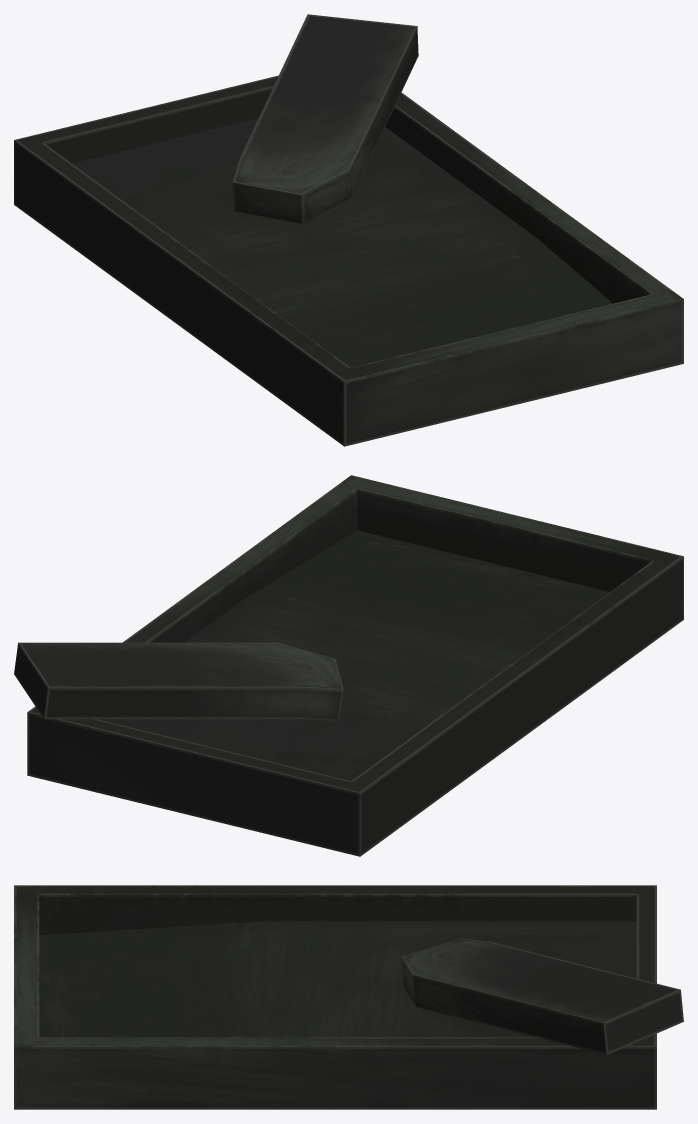
File: library_loom_inkstone.fbx
3 renders of one model, top to bottom at view 1: azimuth 30°, elevation 25°; view 2: azimuth 150°, elevation 25°; view 3: azimuth 270°, elevation 25°, orthographic. The views are drawn at different scales.
Visible parts, largest first — view 1: inkstone_lo; view 2: inkstone_lo; view 3: inkstone_lo.
Part boxes in pixels (x1,y1,x2,y2): inkstone_lo: (14, 14, 683, 446); inkstone_lo: (14, 475, 683, 856); inkstone_lo: (14, 885, 683, 1109).
Bounding box in the file's own units: 20.75 × 5.59 × 32.65.
